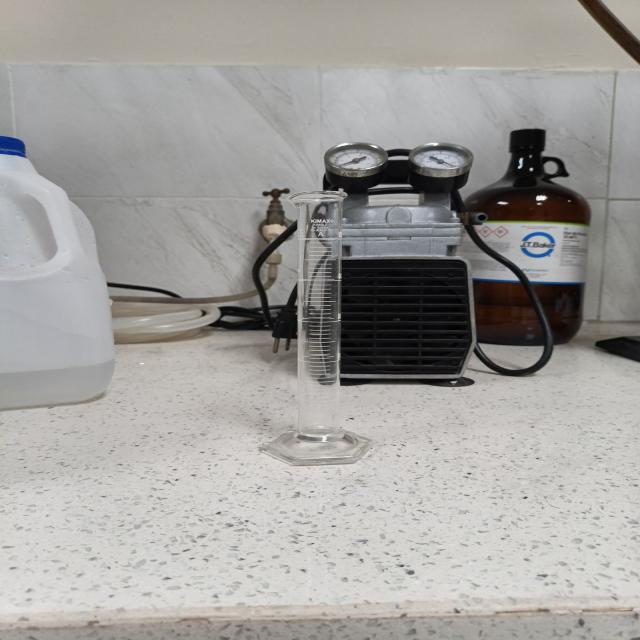Bomba de Vacio de Membrana - Diafragma Portatil: (325, 143, 485, 382)
